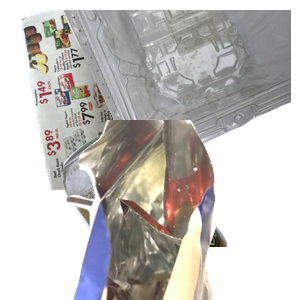glass: (60, 120, 300, 300)
paper: (19, 10, 223, 190)
plastic: (60, 10, 300, 162)
trash: (63, 120, 300, 300)
